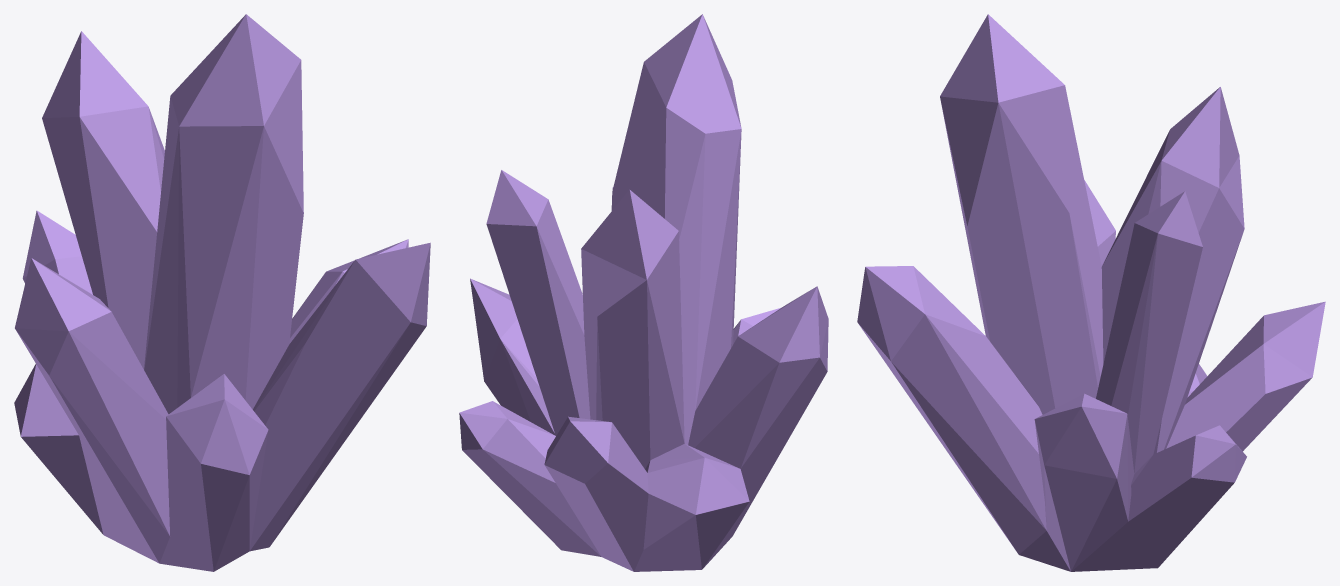
The model's file is Crystal.fbx.
The picture shows the model from 3 angles, left to right: view 1: azimuth 30°, elevation 25°; view 2: azimuth 150°, elevation 25°; view 3: azimuth 270°, elevation 25°; orthographic projection. The views are drawn at different scales.
Parts seen in each view (by area): view 1: Crystals; view 2: Crystals; view 3: Crystals.
Boxes of the visible parts, x1,y1,x2,y2 form: Crystals: (14, 14, 430, 571); Crystals: (459, 14, 828, 571); Crystals: (857, 14, 1325, 571).
Bounding box in the file's own units: 55.57 × 74.97 × 60.75.
